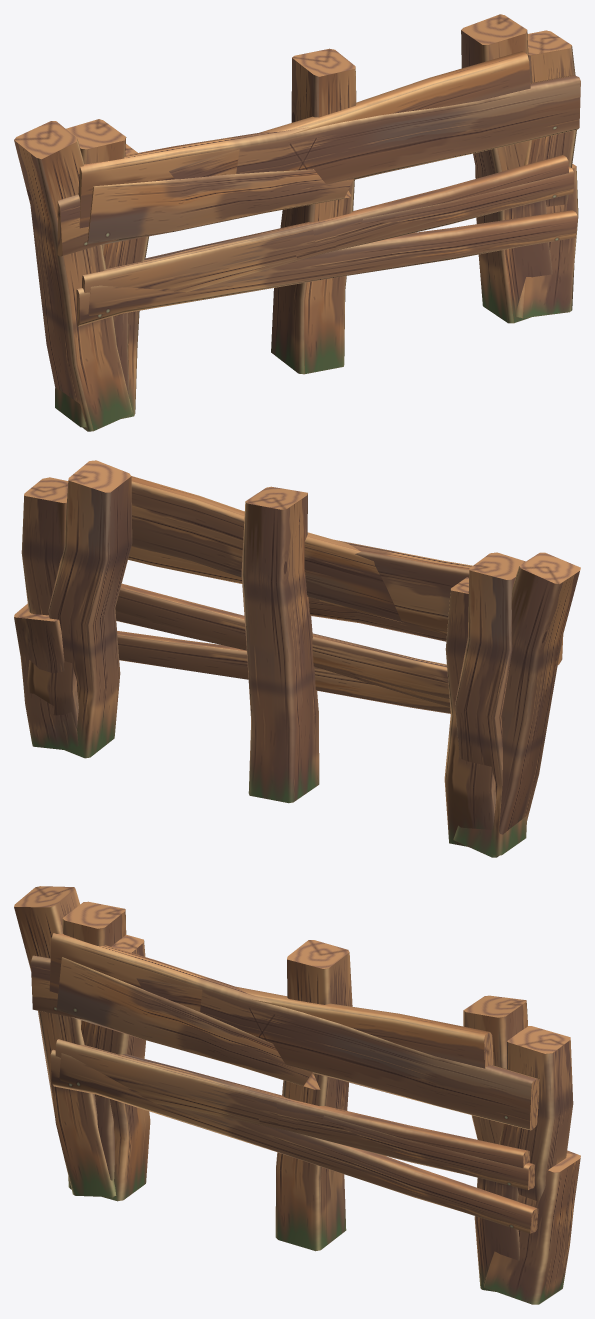
Rendered from Fence.glb.
3 views of the same model, one above another, from view 1: azimuth 30°, elevation 25°; view 2: azimuth 150°, elevation 25°; view 3: azimuth 330°, elevation 25° (orthographic). The views are drawn at different scales.
Parts seen in each view (by area): view 1: FenceA, FenceLean, FenceBroken, FencePost; view 2: FenceLean, FenceA, FencePost, FenceBroken; view 3: FenceA, FenceBroken, FenceLean, FencePost.
Boxes of the visible parts, <box> form: FenceA: <box>55,30,580,427</box>; FenceLean: <box>14,14,568,431</box>; FenceBroken: <box>87,144,578,418</box>; FencePost: <box>271,48,356,374</box>; FenceLean: <box>48,460,580,857</box>; FenceA: <box>21,477,527,855</box>; FencePost: <box>241,486,319,803</box>; FenceBroken: <box>14,577,496,846</box>; FenceA: <box>49,901,573,1201</box>; FenceBroken: <box>56,934,580,1304</box>; FenceLean: <box>14,886,530,1291</box>; FencePost: <box>275,940,352,1251</box>.
Bounding box in the file's own units: 11.52 × 6.05 × 1.59.
Materials: 1 (1 with a texture image).
